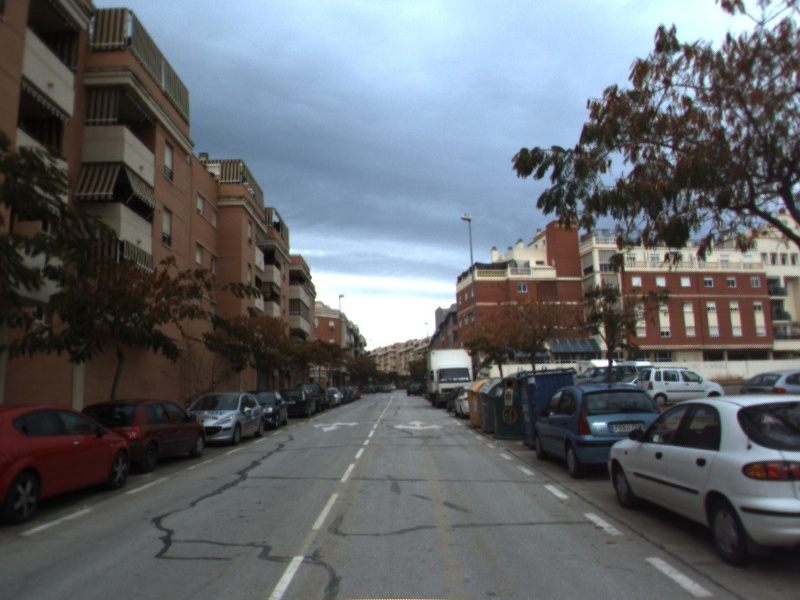STRAIGHT_LEFT_RIGHT: (392, 419, 445, 431)
